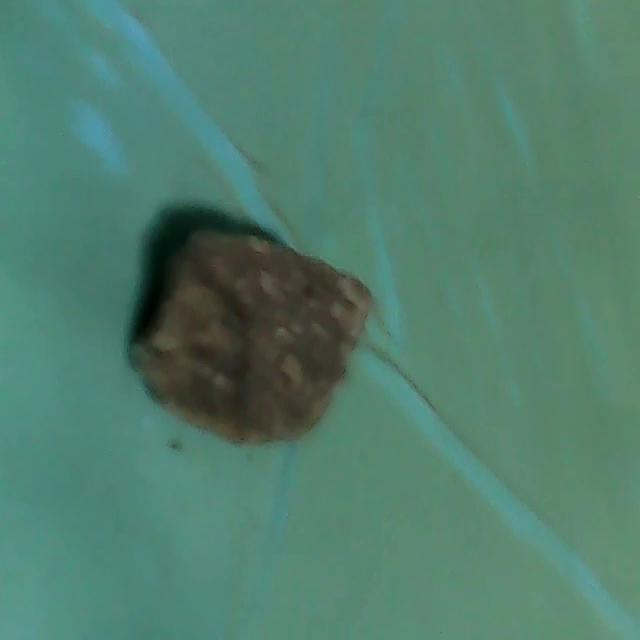rock: (129, 202, 376, 450)
